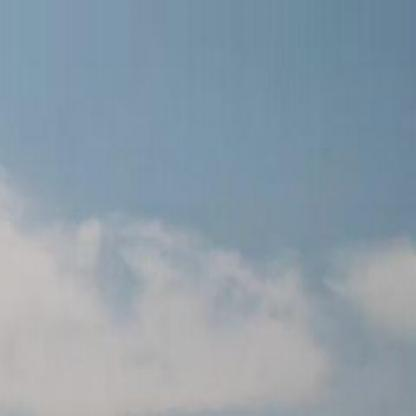other: (17, 194, 306, 377)
